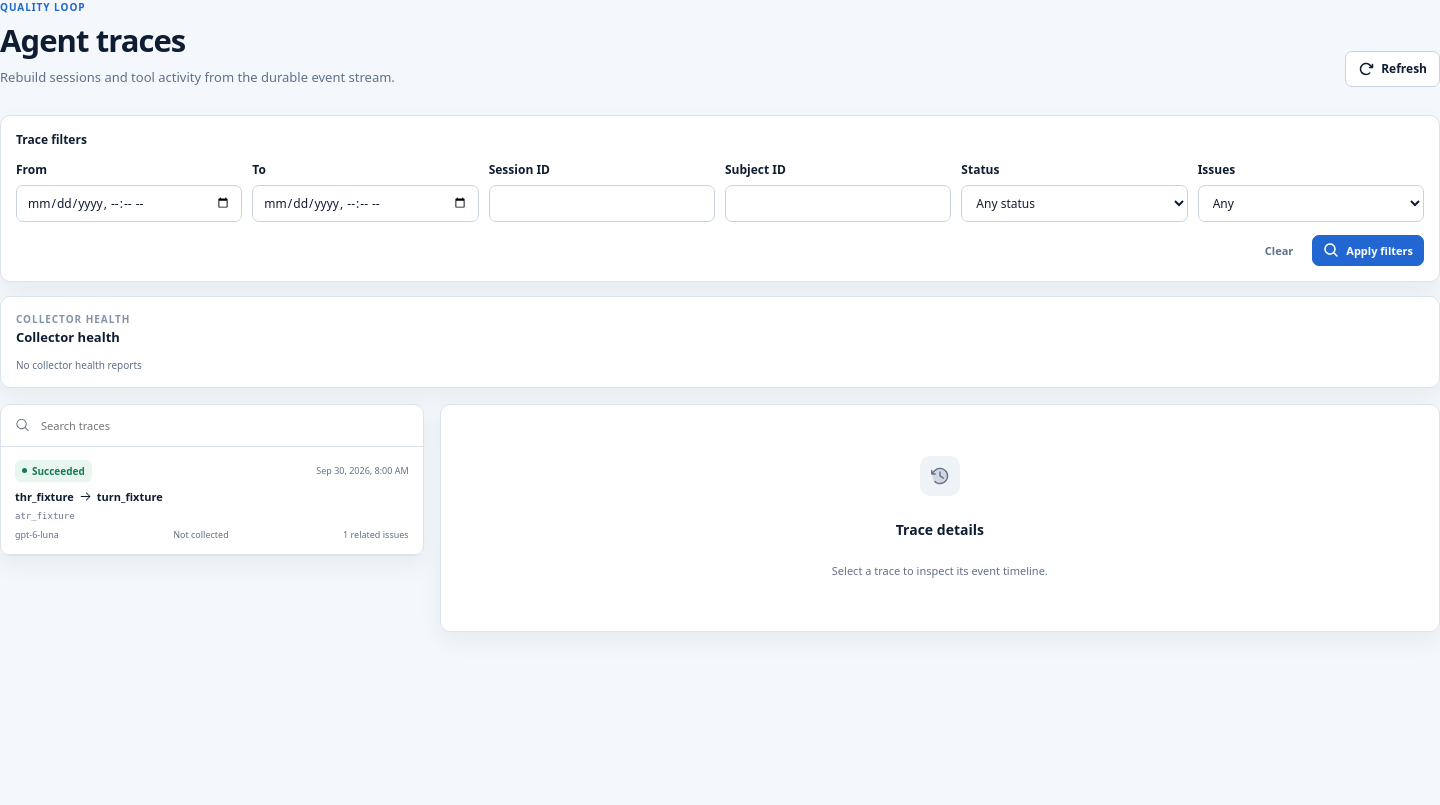
Test case: TraceWorkbench durable replay › does not calculate hook duration from reversed persisted timestamps
This screenshot has width=1440, height=805.
What coordinates should you click on to do the following:
click the button that starts with "Succeeded"
I would click on:
 (53, 471)
Its box is [1,447,423,555].
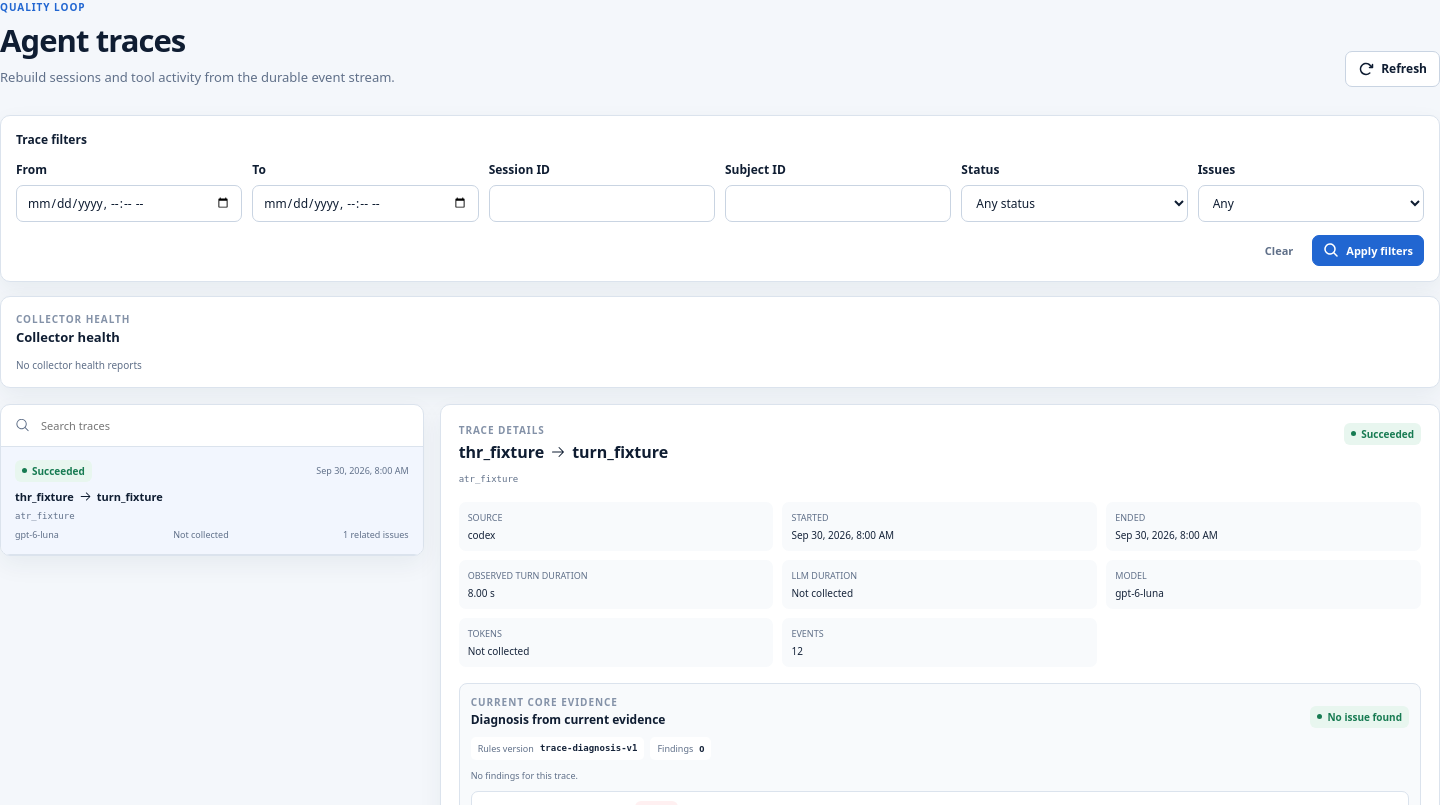
Expected: the text "atr_fixture" below "Trace details" is shown, [459,474,518,484]
